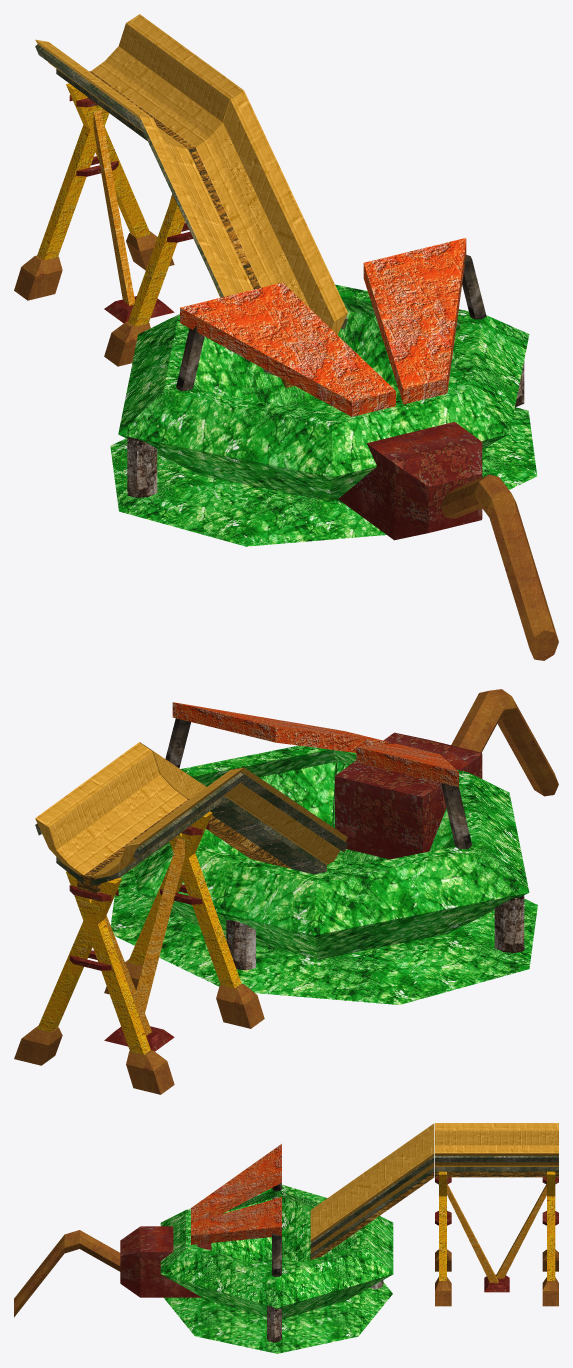
Rendered from aqend.glb.
3 renders of one model, top to bottom at view 1: azimuth 30°, elevation 25°; view 2: azimuth 150°, elevation 25°; view 3: azimuth 270°, elevation 25°, orthographic. The views are drawn at different scales.
Visible parts, largest first — view 1: aqend; view 2: aqend; view 3: aqend.
Part boxes in pixels (<box>): aqend: <box>14,14,558,660</box>; aqend: <box>14,689,558,1094</box>; aqend: <box>14,1123,558,1353</box>.
Bounding box in the file's own units: 14 × 9.75 × 26.94.
Materials: 11 (11 with a texture image).
